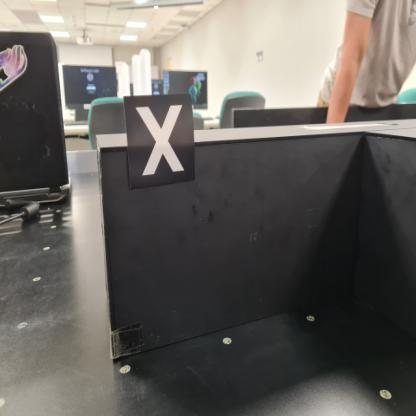x: (124, 95, 195, 188)
